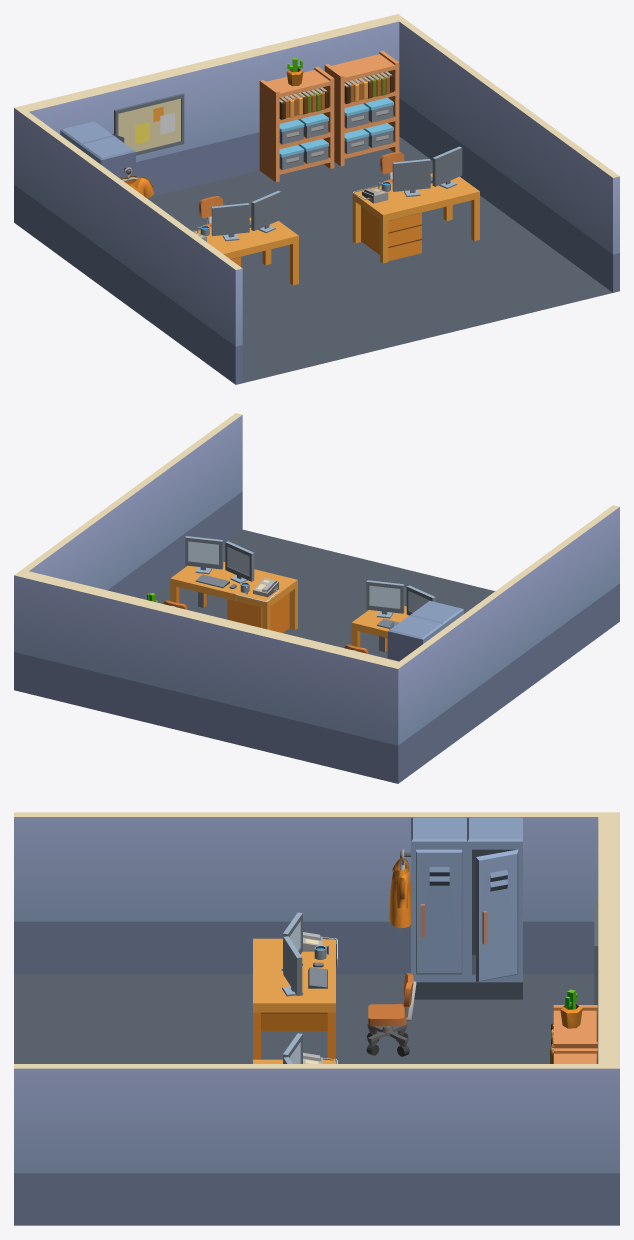
The model's file is Upgrade_Room.fbx.
The picture shows the model from 3 angles, top to bottom: view 1: azimuth 30°, elevation 25°; view 2: azimuth 150°, elevation 25°; view 3: azimuth 270°, elevation 25°; orthographic projection. The views are drawn at different scales.
Visible parts, largest first — view 1: pPlane32, wall_half6, wall_half7, wall27, office_shelve02, pasted__office_table, pasted__office_table2, office_board, office_shelve01; view 2: wall27, wall_half6, wall_half7, pPlane32, pasted__office_table, pasted__office_table2, office_shelve01; view 3: wall_half7, wall_half6, pPlane32, office_shelve01, pasted__office_table2, wall27, office_shelve02, pasted__office_table.
Boxes of the visible parts, x1=… form: pPlane32: x1=148, y1=136, x2=612, y2=382; wall_half6: x1=14, y1=106, x2=242, y2=384; wall_half7: x1=392, y1=14, x2=619, y2=292; wall27: x1=14, y1=14, x2=405, y2=227; office_shelve02: x1=259, y1=51, x2=399, y2=182; pasted__office_table: x1=352, y1=146, x2=479, y2=263; pasted__office_table2: x1=192, y1=190, x2=298, y2=285; office_board: x1=114, y1=93, x2=184, y2=155; office_shelve01: x1=60, y1=121, x2=154, y2=198; wall27: x1=14, y1=570, x2=405, y2=782; wall_half6: x1=391, y1=505, x2=619, y2=783; wall_half7: x1=14, y1=413, x2=242, y2=687; pPlane32: x1=155, y1=529, x2=494, y2=658; pasted__office_table: x1=163, y1=536, x2=297, y2=632; pasted__office_table2: x1=344, y1=580, x2=435, y2=653; office_shelve01: x1=387, y1=601, x2=463, y2=661; wall_half7: x1=14, y1=1064, x2=619, y2=1225; wall_half6: x1=14, y1=812, x2=619, y2=973; pPlane32: x1=14, y1=974, x2=598, y2=1063; office_shelve01: x1=389, y1=817, x2=522, y2=999; pasted__office_table2: x1=253, y1=912, x2=416, y2=1059; wall27: x1=598, y1=812, x2=619, y2=1225; office_shelve02: x1=550, y1=989, x2=597, y2=1063; pasted__office_table: x1=253, y1=1033, x2=337, y2=1063.
Bounding box in the file's own units: 700 × 204 × 700.
